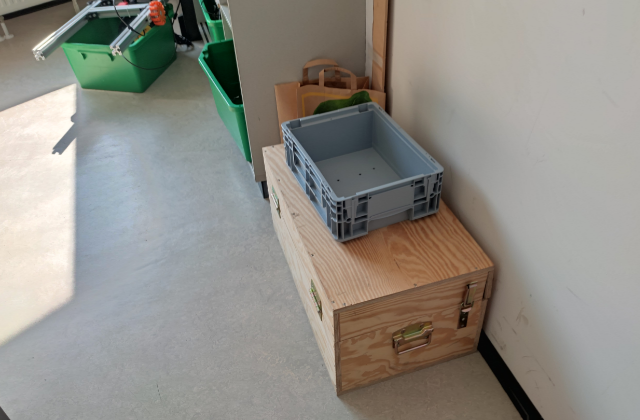Box: (279, 100, 445, 243)
